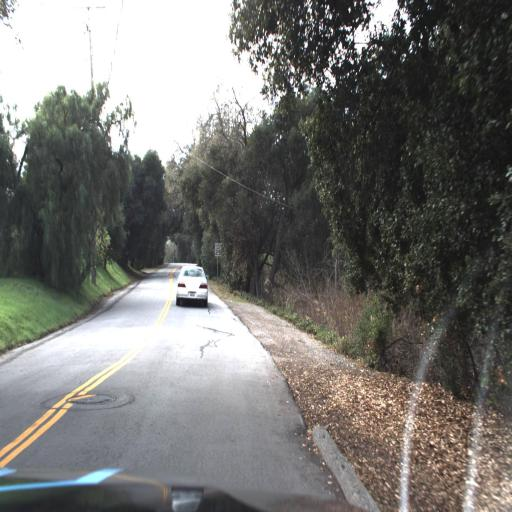car: (172, 259, 211, 307)
